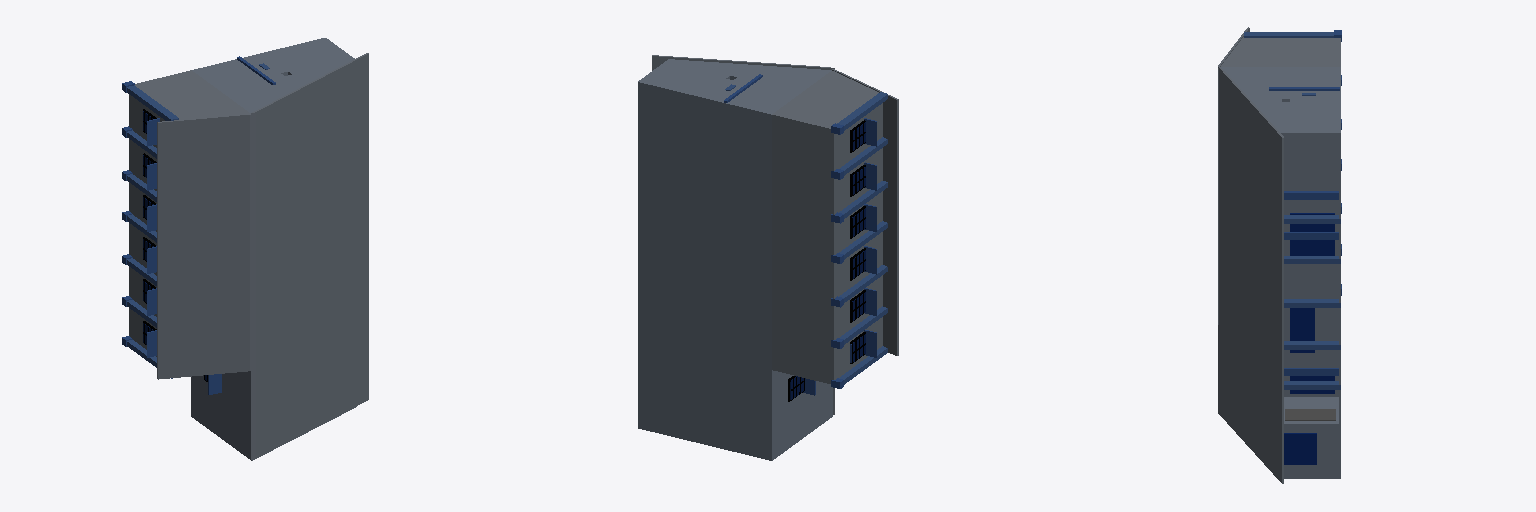
File: ttroom.obj
The picture shows the model from 3 angles: view 1: azimuth 30°, elevation 25°; view 2: azimuth 150°, elevation 25°; view 3: azimuth 270°, elevation 25°; orthographic projection.
Parts seen in each view (by area): view 1: Cube.041_Cube.014, Cube.042_Cube.017, main_block_Cube.016, Cube.009_Cube.024, slim.011_Cube.031; view 2: main_block_Cube.016, Cube.009_Cube.024, Cube.042_Cube.017, Cube.041_Cube.014, slim.011_Cube.031; view 3: Cube.041_Cube.014, main_block_Cube.016, Cube.009_Cube.024, Cube.011_Cube.020, Cube.007_Cube.012, Cube.003_Cube.008, Cube.006_Cube.011, slim.011_Cube.031.
Part boxes in pixels (x1,y1,x2,y2): Cube.041_Cube.014: (251, 53, 368, 459); Cube.042_Cube.017: (157, 114, 255, 379); main_block_Cube.016: (191, 38, 356, 460); Cube.009_Cube.024: (129, 70, 250, 356); slim.011_Cube.031: (127, 85, 178, 120); main_block_Cube.016: (638, 59, 832, 460); Cube.009_Cube.024: (772, 71, 882, 383); Cube.042_Cube.017: (832, 69, 898, 355); Cube.041_Cube.014: (652, 55, 834, 414); slim.011_Cube.031: (837, 92, 887, 130); Cube.041_Cube.014: (1218, 65, 1283, 483); main_block_Cube.016: (1221, 67, 1340, 478); Cube.009_Cube.024: (1221, 37, 1340, 66); Cube.011_Cube.020: (1284, 433, 1316, 464); Cube.007_Cube.012: (1290, 308, 1314, 352); Cube.003_Cube.008: (1290, 240, 1334, 255); Cube.006_Cube.011: (1285, 409, 1335, 420); slim.011_Cube.031: (1244, 32, 1333, 37).
Bounding box in the file's own units: 11.73 × 17.19 × 5.46.